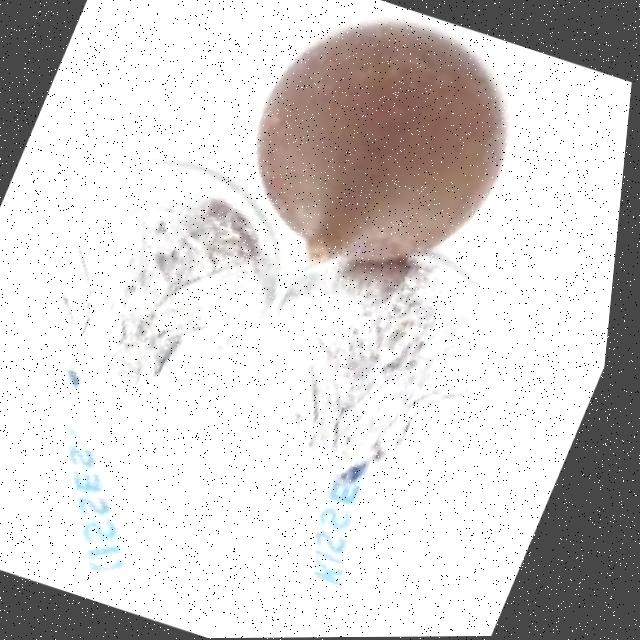kisses: (0, 125, 344, 573), (202, 0, 566, 309)
